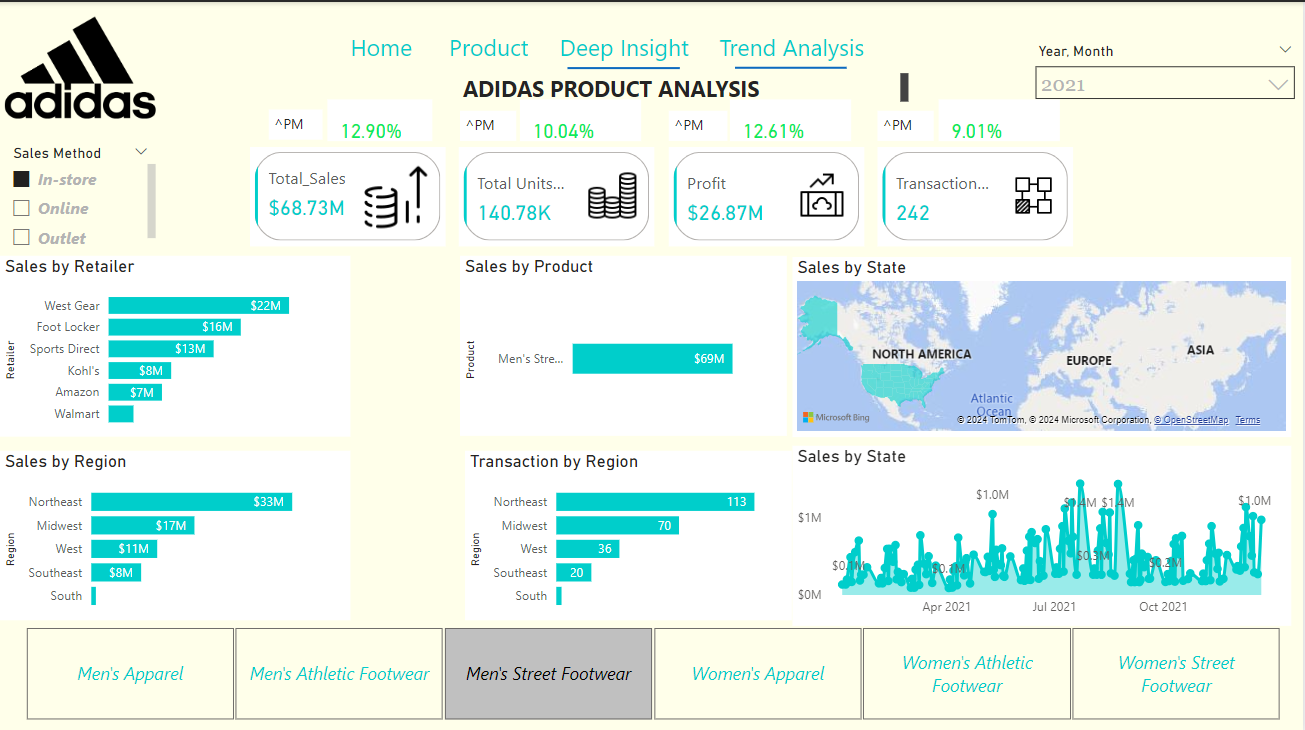

The dashboard page shown, as its layout file describes it:
{"tool":"powerbi","page":{"name":"Deep Insight","canvas":[1280,720],"ordinal":2},"visuals":[{"type":"image","box":[0,0,157.5,129.4],"z":0},{"type":"actionButton","box":[321.2,23.3,105.3,39.6],"z":0,"group":"g1"},{"type":"actionButton","box":[426.5,23.3,105.3,39.6],"z":1000,"group":"g1"},{"type":"slicer","fields":{"Values":["Product.Product"]},"box":[0,607.5,1280.2,103.5],"z":1000},{"type":"actionButton","box":[531.8,23.3,160.4,39.6],"z":2000,"group":"g1"},{"type":"barChart","title":"Sales by Retailer","fields":{"Y":["Data Sales Adidas.Total_Sales"],"Category":["Data Sales Adidas.Retailer"]},"box":[0,248.6,344.2,177.8],"z":2000},{"type":"actionButton","box":[692.1,23.3,170.2,39.6],"z":3000,"group":"g1"},{"type":"cardVisual","fields":{"Data":["Data Sales Adidas.SalesMOM"]},"box":[316.1,91.1,113.6,51.8],"z":3000},{"type":"slicer","fields":{"Values":["Data Sales Adidas.Sales Method"]},"box":[0,135,157.5,113.6],"z":4000},{"type":"slicer","fields":{"Values":["Calendar.Year","Calendar.Month"]},"box":[1005.8,33.8,274.5,83.2],"z":5000},{"type":"group","id":"g1","title":"Group 3","box":[321.2,23.3,541.1,39.6],"z":6000},{"type":"textbox","box":[316.1,65.2,580.5,38.2],"z":7000},{"type":"cardVisual","fields":{"Data":["Data Sales Adidas.Total_Sales"]},"box":[245.2,142.9,192.4,97.9],"z":8000},{"type":"cardVisual","fields":{"Data":["Data Sales Adidas.Total Units Sold"]},"box":[450.8,142.9,192.4,97.9],"z":9000},{"type":"cardVisual","fields":{"Data":["Data Sales Adidas.Profit"]},"box":[656.2,142.9,192.4,97.9],"z":10000},{"type":"cardVisual","fields":{"Data":["Data Sales Adidas.Transaction Count"]},"box":[861.8,142.9,192.4,97.9],"z":11000},{"type":"barChart","title":"Sales by Region","fields":{"Category":["Location.Region"],"Y":["Data Sales Adidas.Total_Sales"]},"box":[0,441,344.2,166.5],"z":12000},{"type":"barChart","title":"Sales by Product","fields":{"Category":["Data Sales Adidas.Product"],"Y":["Data Sales Adidas.Total_Sales"]},"box":[451.1,248.6,320.6,177],"z":13000},{"type":"barChart","title":"Transaction by Region","fields":{"Y":["Data Sales Adidas.Transaction Count"],"Category":["Location.Region"]},"box":[456.8,441,320.6,166.5],"z":14000},{"type":"filledMap","title":"Sales by State","fields":{"Category":["Location.State"]},"box":[777.4,249.8,489.4,176.6],"z":15000},{"type":"areaChart","title":"Sales by State","fields":{"Y":["Data Sales Adidas.Total_Sales"],"Category":["Calendar.Date.Variation.Date Hierarchy.Year","Calendar.Date.Variation.Date Hierarchy.Quarter","Calendar.Date.Variation.Date Hierarchy.Month","Calendar.Date.Variation.Date Hierarchy.Day"]},"box":[777.4,435.4,489.4,176.6],"z":16000},{"type":"shape","box":[556.9,42.8,110.2,43.9],"z":17000},{"type":"cardVisual","fields":{"Data":["Data Sales Adidas.Total Units SoldMOM"]},"box":[505.9,91.1,129.4,51.8],"z":18000},{"type":"cardVisual","fields":{"Data":["Data Sales Adidas.ProfitMOM"]},"box":[711.4,91.1,129.4,51.8],"z":19000},{"type":"cardVisual","fields":{"Data":["Data Sales Adidas.Transaction CountMOM"]},"box":[916.9,91.1,129.4,51.8],"z":20000},{"type":"textbox","box":[263.2,105.8,52.9,29.2],"z":21000},{"type":"textbox","box":[451.1,106.9,55.1,29.2],"z":22000},{"type":"textbox","box":[655.9,106.9,57.4,29.2],"z":23000},{"type":"textbox","box":[861.8,106.9,55.1,29.2],"z":24000},{"type":"shape","box":[721,43.2,109.9,43.2],"z":25000}]}

Visuals, with their boxes in screenshot pixels (x1, y1, x2, y2), scaled from the page's 1280x720 canvas onto the 1305x730 screenshot:
image: pyautogui.locateOnScreen(0, 0, 161, 131)
actionButton: pyautogui.locateOnScreen(327, 24, 435, 64)
actionButton: pyautogui.locateOnScreen(435, 24, 542, 64)
slicer - Product.Product: pyautogui.locateOnScreen(0, 616, 1304, 721)
actionButton: pyautogui.locateOnScreen(542, 24, 706, 64)
"Sales by Retailer" barChart: pyautogui.locateOnScreen(0, 252, 351, 432)
actionButton: pyautogui.locateOnScreen(706, 24, 879, 64)
cardVisual - Data Sales Adidas.SalesMOM: pyautogui.locateOnScreen(322, 92, 438, 145)
slicer - Data Sales Adidas.Sales Method: pyautogui.locateOnScreen(0, 137, 161, 252)
slicer - Calendar.Year x Calendar.Month: pyautogui.locateOnScreen(1025, 34, 1304, 119)
"Group 3" group: pyautogui.locateOnScreen(327, 24, 879, 64)
textbox: pyautogui.locateOnScreen(322, 66, 914, 105)
cardVisual - Data Sales Adidas.Total_Sales: pyautogui.locateOnScreen(250, 145, 446, 244)
cardVisual - Data Sales Adidas.Total Units Sold: pyautogui.locateOnScreen(460, 145, 656, 244)
cardVisual - Data Sales Adidas.Profit: pyautogui.locateOnScreen(669, 145, 865, 244)
cardVisual - Data Sales Adidas.Transaction Count: pyautogui.locateOnScreen(879, 145, 1075, 244)
"Sales by Region" barChart: pyautogui.locateOnScreen(0, 447, 351, 616)
"Sales by Product" barChart: pyautogui.locateOnScreen(460, 252, 787, 432)
"Transaction by Region" barChart: pyautogui.locateOnScreen(466, 447, 793, 616)
"Sales by State" filledMap: pyautogui.locateOnScreen(793, 253, 1292, 432)
"Sales by State" areaChart: pyautogui.locateOnScreen(793, 441, 1292, 620)
shape: pyautogui.locateOnScreen(568, 43, 680, 88)
cardVisual - Data Sales Adidas.Total Units SoldMOM: pyautogui.locateOnScreen(516, 92, 648, 145)
cardVisual - Data Sales Adidas.ProfitMOM: pyautogui.locateOnScreen(725, 92, 857, 145)
cardVisual - Data Sales Adidas.Transaction CountMOM: pyautogui.locateOnScreen(935, 92, 1067, 145)
textbox: pyautogui.locateOnScreen(268, 107, 322, 137)
textbox: pyautogui.locateOnScreen(460, 108, 516, 138)
textbox: pyautogui.locateOnScreen(669, 108, 727, 138)
textbox: pyautogui.locateOnScreen(879, 108, 935, 138)
shape: pyautogui.locateOnScreen(735, 44, 847, 88)
